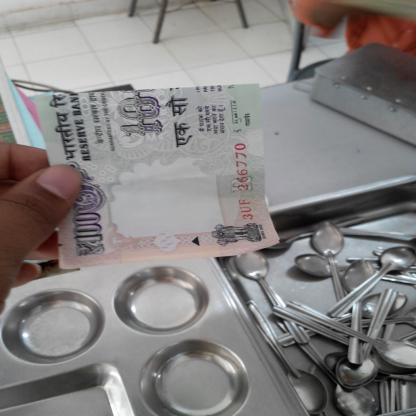Old100Front: (34, 83, 281, 269)
